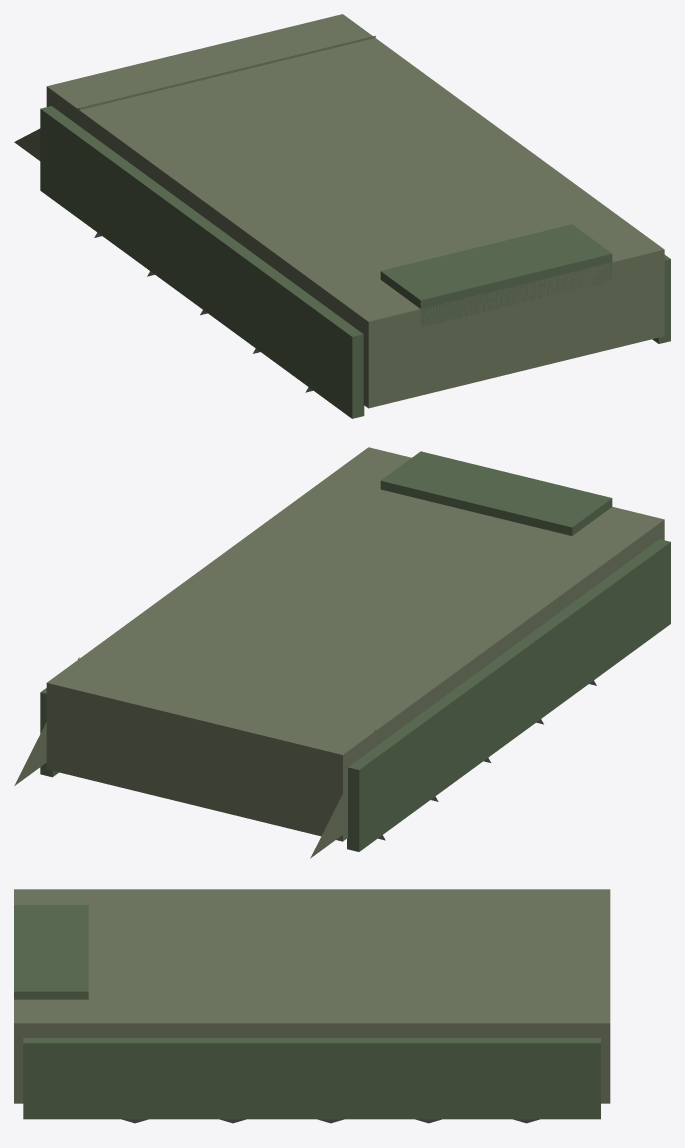
3 views of the same model, one above another, from view 1: azimuth 30°, elevation 25°; view 2: azimuth 150°, elevation 25°; view 3: azimuth 270°, elevation 25° (orthographic). The views are drawn at different scales.
Parts seen in each view (by area): view 1: body; view 2: body; view 3: body.
Part boxes in pixels (<box>): body: <box>14,14,670,418</box>; body: <box>14,447,670,858</box>; body: <box>14,889,610,1123</box>.
Size of the model in its own units: 3.66 by 1.36 by 7.05.
